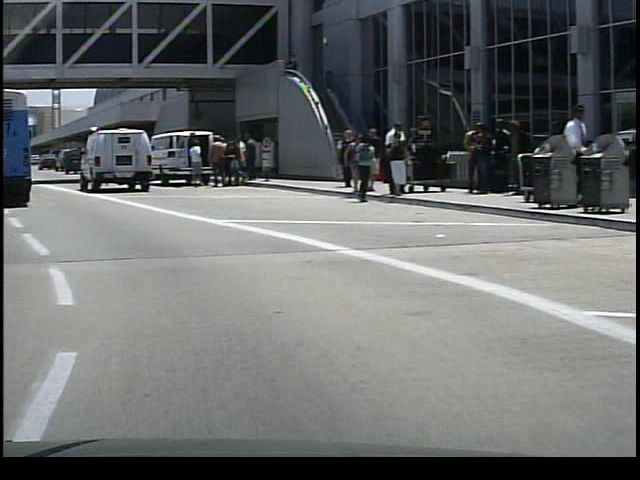person: (551, 104, 585, 205), (380, 122, 410, 198), (380, 132, 406, 200), (203, 137, 228, 190), (237, 132, 259, 182), (183, 136, 202, 191)
